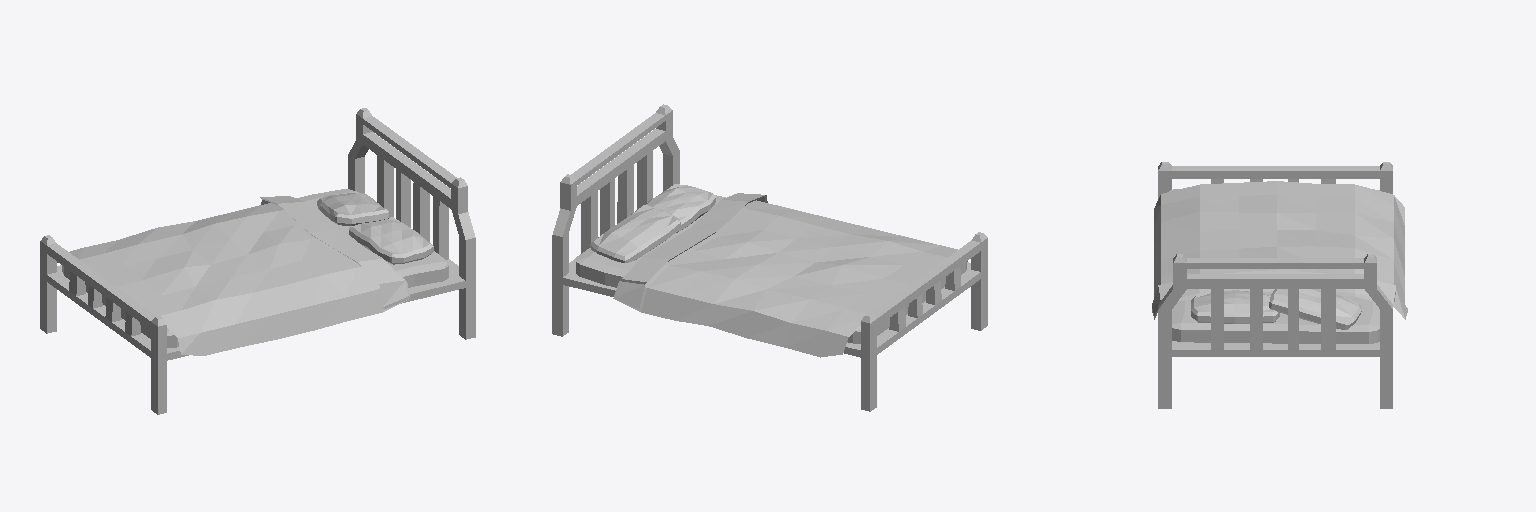
File: bed.obj
The picture shows the model from 3 angles: view 1: azimuth 30°, elevation 25°; view 2: azimuth 150°, elevation 25°; view 3: azimuth 270°, elevation 25°; orthographic projection.
Parts seen in each view (by area): view 1: Plane.001, Cube.014, Cube.016, Cube.015, Cube.017; view 2: Plane.001, Cube.014, Cube.017, Cube.015, Cube.016; view 3: Plane.001, Cube.014, Cube.015, Cube.017, Cube.016.
Part boxes in pixels (left/top/right/bottom): Plane.001: left=57, top=196, right=410, bottom=355; Cube.014: left=40, top=108, right=475, bottom=414; Cube.016: left=349, top=217, right=433, bottom=264; Cube.015: left=62, top=189, right=448, bottom=347; Cube.017: left=317, top=193, right=389, bottom=225; Plane.001: left=613, top=193, right=967, bottom=357; Cube.014: left=552, top=104, right=987, bottom=411; Cube.017: left=590, top=205, right=680, bottom=262; Cube.015: left=576, top=195, right=966, bottom=343; Cube.016: left=646, top=184, right=715, bottom=232; Plane.001: left=1152, top=181, right=1407, bottom=319; Cube.014: left=1158, top=162, right=1392, bottom=408; Cube.015: left=1169, top=189, right=1379, bottom=343; Cube.017: left=1269, top=289, right=1361, bottom=329; Cube.016: left=1191, top=290, right=1279, bottom=323.
Size of the model in its own units: 4.65 by 2.12 by 3.25.